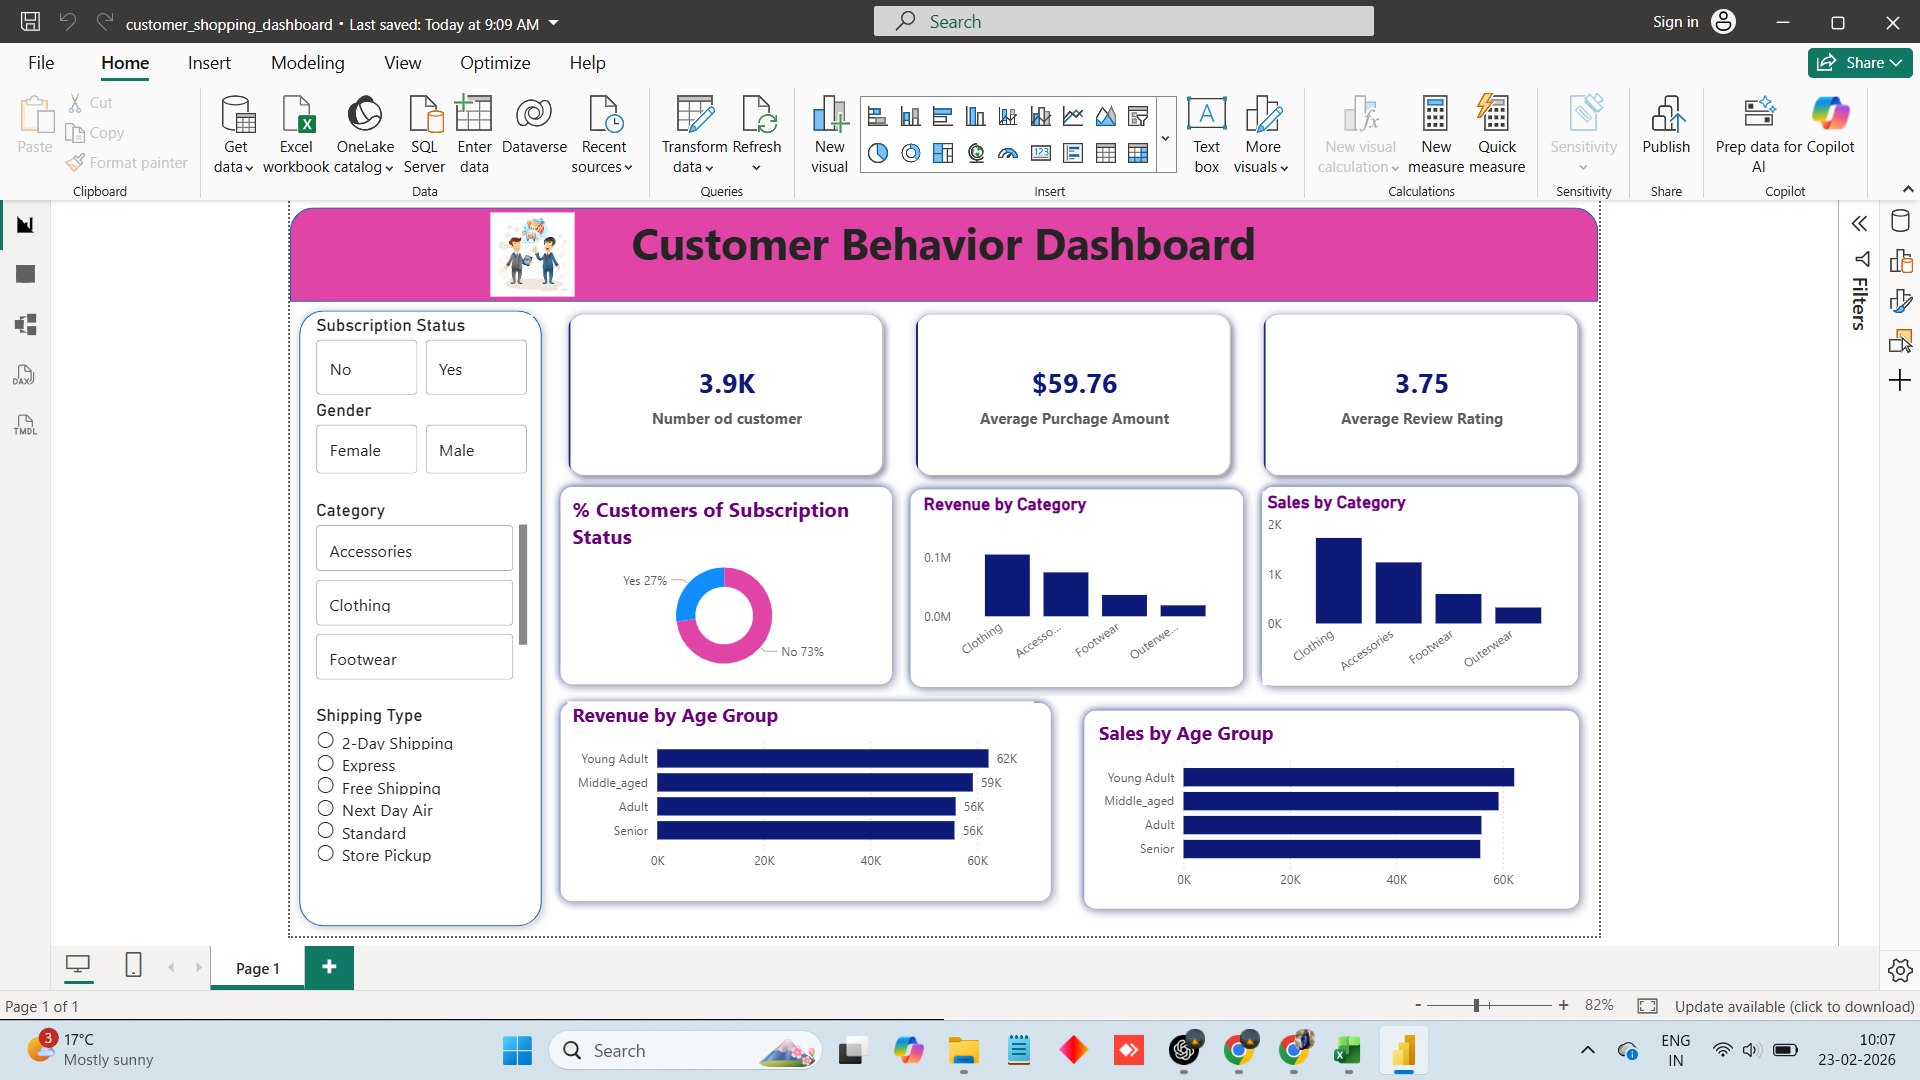

The dashboard page shown, as its layout file describes it:
{"tool":"powerbi","page":{"name":"Page 1","canvas":[1280,720],"ordinal":0},"visuals":[{"type":"cardVisual","fields":{"Data":["customer_shopping customer.Number od customer","customer_shopping customer.Average Purchage Amount","customer_shopping customer.Average Review Rating"]},"box":[255.6,94.2,1024.7,193.2],"z":0},{"type":"shape","box":[255.6,271.5,342.4,211.6],"z":1000},{"type":"shape","box":[0,7.2,1279.7,92.3],"z":2000},{"type":"textbox","box":[10.1,7.2,1259.5,69.3],"z":3000},{"type":"donutChart","title":"% Customers of Subscription Status","fields":{"Category":["customer_shopping customer.subscription_status"],"Y":["CountNonNull(customer_shopping customer.customer_id)"]},"box":[271.5,288.6,306.9,183.4],"z":4000},{"type":"shape","box":[598,273.9,343.6,211.6],"z":5000},{"type":"shape","box":[941.6,271.5,327.7,212.8],"z":6000},{"type":"clusteredColumnChart","title":"Revenue by Category","fields":{"Category":["customer_shopping customer.category"],"Y":["Sum(customer_shopping customer.purchase_amount)"]},"box":[615.1,287.4,310.6,176.1],"z":7000},{"type":"clusteredColumnChart","title":"Sales by Category","fields":{"Category":["customer_shopping customer.category"],"Y":["CountNonNull(customer_shopping customer.customer_id)"]},"box":[951.4,284.9,303.3,189.5],"z":8000},{"type":"shape","box":[0,99.6,255.4,620.4],"z":9000},{"type":"advancedSlicerVisual","fields":{"Values":["customer_shopping customer.subscription_status"]},"box":[20.2,112.5,216.4,83.7],"z":10000},{"type":"advancedSlicerVisual","fields":{"Values":["customer_shopping customer.gender"]},"box":[20.2,196.2,216.4,77.9],"z":11000},{"type":"advancedSlicerVisual","fields":{"Values":["customer_shopping customer.category"]},"box":[20.2,292.9,216.4,180.3],"z":12000},{"type":"shape","box":[255.4,483.3,497.8,212.1],"z":12500},{"type":"clusteredBarChart","title":"Revenue by Age Group","fields":{"Category":["customer_shopping customer.age_group"],"Y":["Sum(customer_shopping customer.purchase_amount)"]},"box":[271.2,490.5,455.9,174.6],"z":13000},{"type":"listSlicer","fields":{"Values":["customer_shopping customer.shipping_type"]},"box":[20.2,493.4,216.4,209.2],"z":14000},{"type":"shape","box":[767.5,490.5,502.1,212.1],"z":15001},{"type":"clusteredBarChart","title":"Sales by Age Group","fields":{"Category":["customer_shopping customer.age_group"],"Y":["Sum(customer_shopping customer.purchase_amount)"]},"box":[786.3,509.3,467.5,174.6],"z":15002},{"type":"image","box":[173.1,7.2,127,92.3],"z":15003}]}

Visuals, with their boxes on the page's 1280x720 design canvas (x1, y1, x2, y2). These are canvas units, not pixel positions in the 1920x1080 screenshot, which may show the page scaled, cropped or inside an application window:
cardVisual - customer_shopping customer.Number od customer x customer_shopping customer.Average Purchage Amount: 256 94 1280 287
shape: 256 272 598 483
shape: 0 7 1280 100
textbox: 10 7 1270 76
"% Customers of Subscription Status" donutChart: 272 289 578 472
shape: 598 274 942 486
shape: 942 272 1269 484
"Revenue by Category" clusteredColumnChart: 615 287 926 464
"Sales by Category" clusteredColumnChart: 951 285 1255 474
shape: 0 100 255 720
advancedSlicerVisual - customer_shopping customer.subscription_status: 20 112 237 196
advancedSlicerVisual - customer_shopping customer.gender: 20 196 237 274
advancedSlicerVisual - customer_shopping customer.category: 20 293 237 473
shape: 255 483 753 695
"Revenue by Age Group" clusteredBarChart: 271 490 727 665
listSlicer - customer_shopping customer.shipping_type: 20 493 237 703
shape: 768 490 1270 703
"Sales by Age Group" clusteredBarChart: 786 509 1254 684
image: 173 7 300 100
